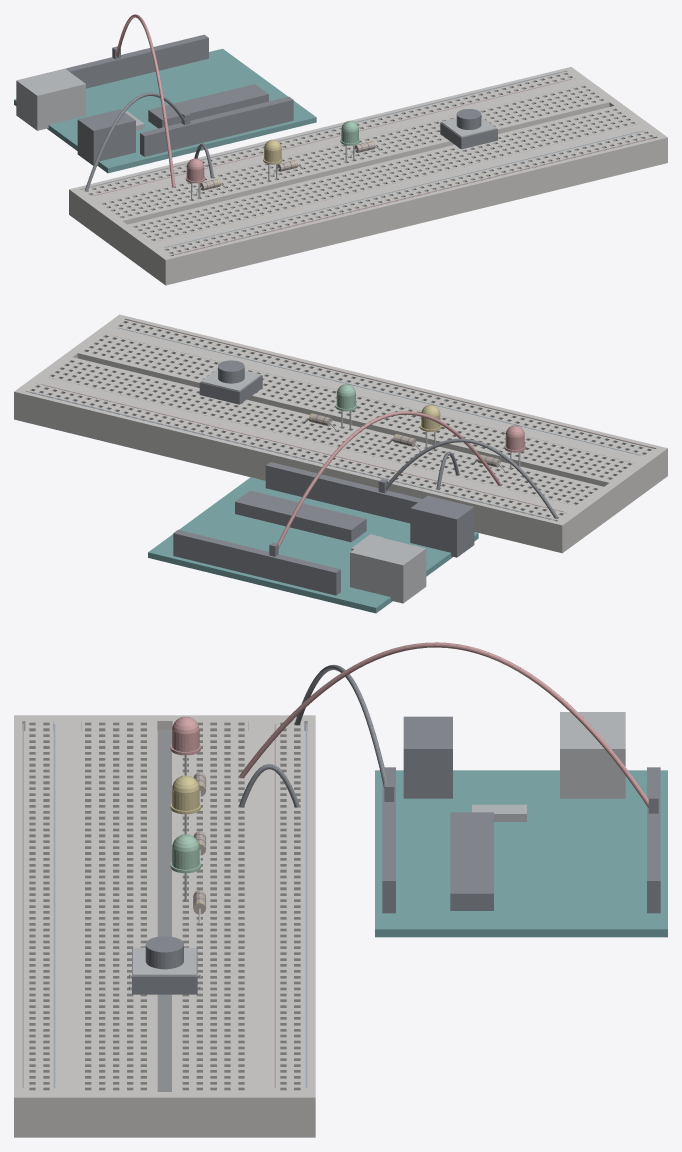
The model's file is step-12.glb.
The picture shows the model from 3 angles, top to bottom: view 1: azimuth 30°, elevation 25°; view 2: azimuth 150°, elevation 25°; view 3: azimuth 270°, elevation 25°; orthographic projection. The views are drawn at different scales.
Parts seen in each view (by area): view 1: breadboard__mesh, uno__mesh, button__mesh, wire_red_signal__mesh, wire_ground__mesh, led_red__mesh, led_yellow__mesh, led_green__mesh; view 2: breadboard__mesh, uno__mesh, button__mesh, wire_red_signal__mesh, wire_ground__mesh, led_green__mesh, led_red__mesh, led_yellow__mesh; view 3: breadboard__mesh, uno__mesh, button__mesh, wire_red_signal__mesh, wire_ground__mesh, led_green__mesh, led_red__mesh, led_yellow__mesh.
Boxes of the visible parts, x1,y1,x2,y2 form: breadboard__mesh: (69,67,667,285); uno__mesh: (14,34,316,173); button__mesh: (440,109,497,149); wire_red_signal__mesh: (112,14,175,187); wire_ground__mesh: (85,92,190,191); led_red__mesh: (185,158,205,200); led_yellow__mesh: (263,139,282,181); led_green__mesh: (340,120,359,162); breadboard__mesh: (14,314,667,553); uno__mesh: (148,462,478,613); button__mesh: (199,360,262,404); wire_red_signal__mesh: (269,411,501,556); wire_ground__mesh: (378,438,557,518); led_green__mesh: (335,384,356,429); led_red__mesh: (504,425,525,468); led_yellow__mesh: (420,404,441,450); breadboard__mesh: (14,715,315,1137); uno__mesh: (375,712,667,937); button__mesh: (129,936,200,994); wire_red_signal__mesh: (239,642,658,813); wire_ground__mesh: (294,664,394,801); led_green__mesh: (170,834,200,900); led_red__mesh: (170,716,200,775); led_yellow__mesh: (170,775,200,834).
Size of the model in its own units: 0.165 by 0.0407 by 0.1192.
